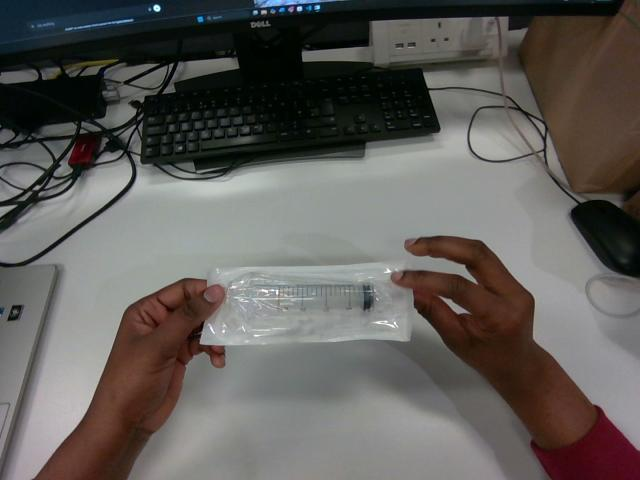syringe: (200, 262, 413, 344)
